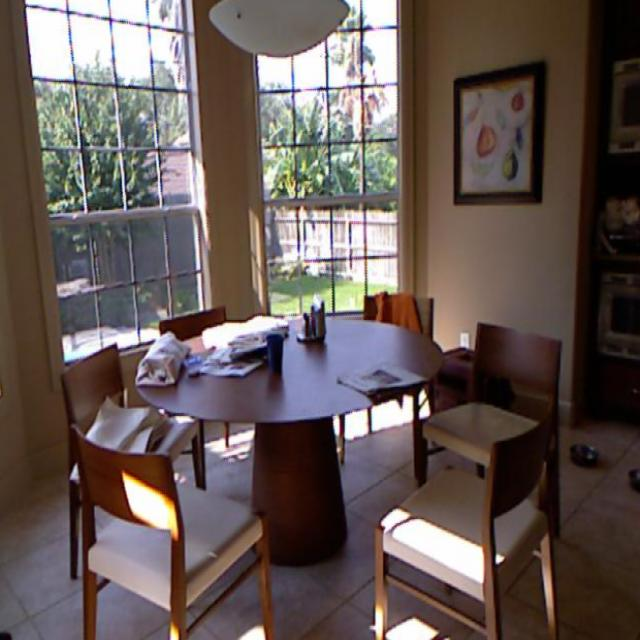chair: (74, 417, 252, 607), (388, 430, 555, 618), (46, 336, 202, 506), (445, 308, 578, 466), (338, 271, 466, 412), (156, 285, 275, 421)
table: (144, 318, 442, 412)
window: (34, 9, 210, 330), (266, 23, 404, 304)
